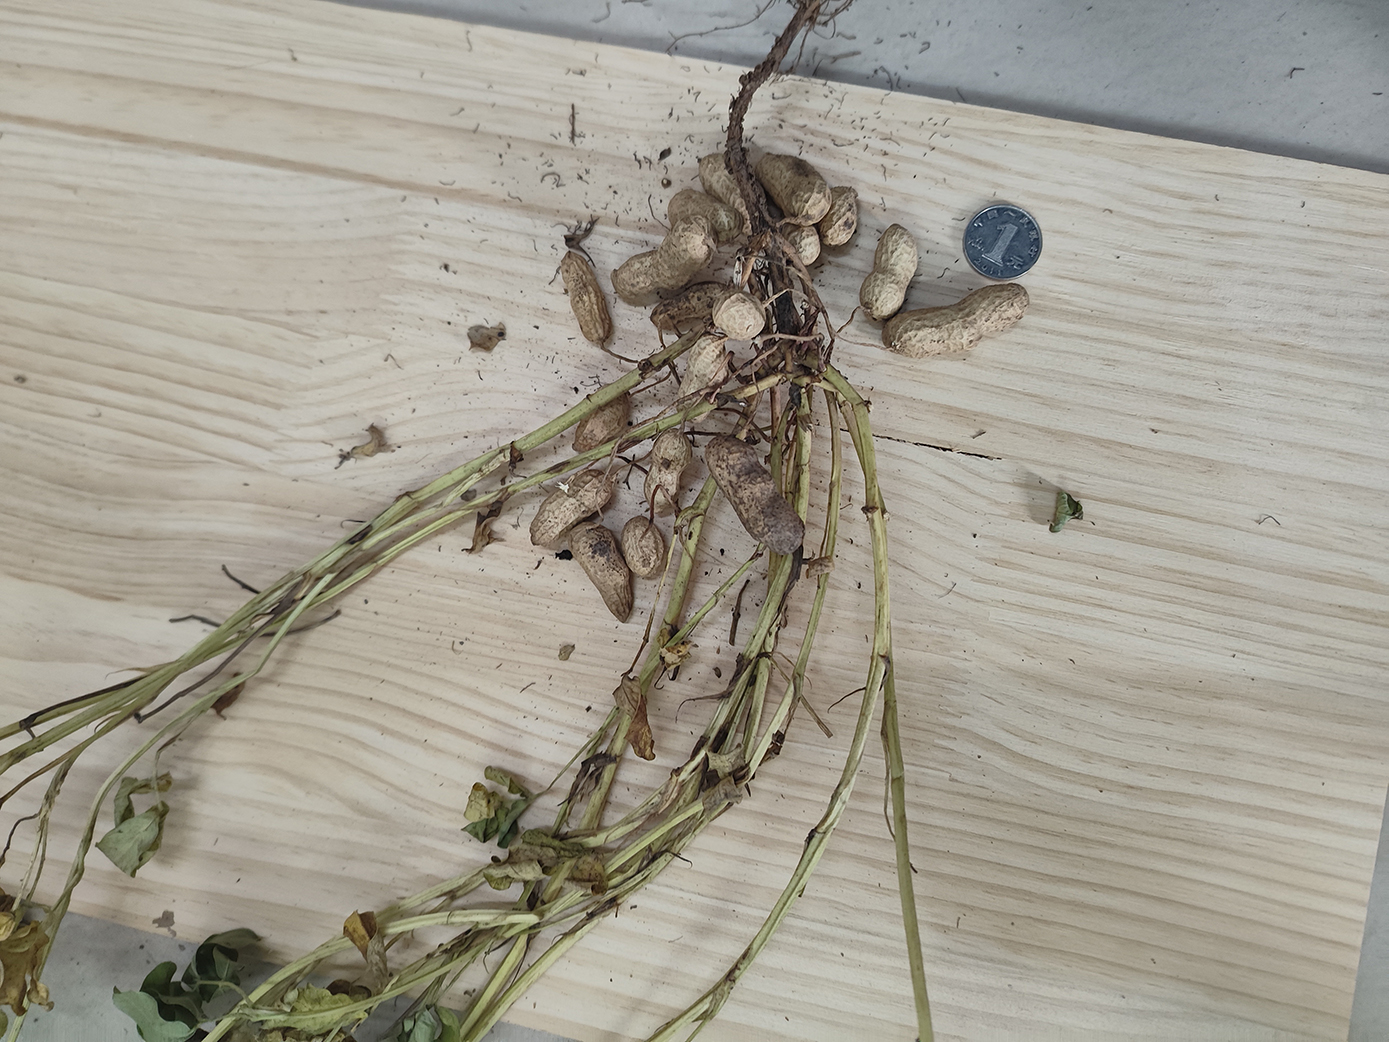h: (882, 283, 1031, 357), (609, 217, 716, 305), (567, 523, 632, 625), (531, 468, 612, 546), (863, 222, 921, 322), (697, 155, 762, 235), (759, 153, 830, 225), (560, 251, 612, 347), (668, 188, 742, 246), (645, 428, 688, 517), (571, 387, 630, 451), (679, 337, 727, 404), (652, 283, 727, 326), (623, 516, 667, 581), (817, 185, 863, 247), (714, 292, 769, 341), (777, 219, 820, 269)
l: (706, 435, 806, 555)
